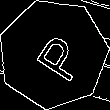P_NW: (22, 24, 85, 83)
